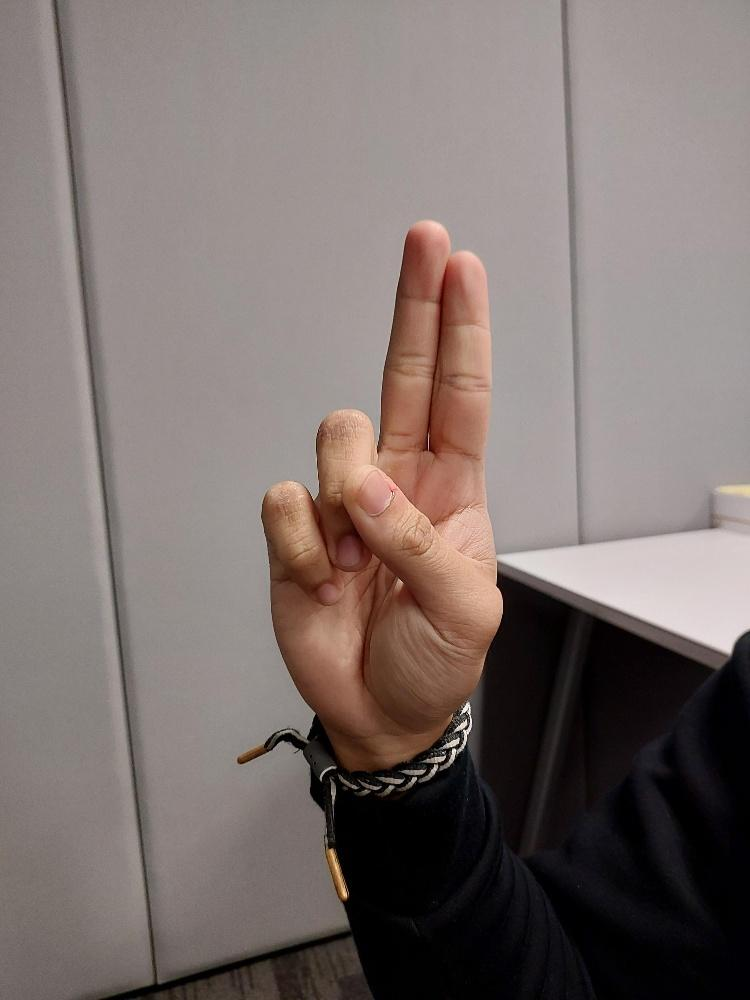u: (258, 216, 505, 739)
